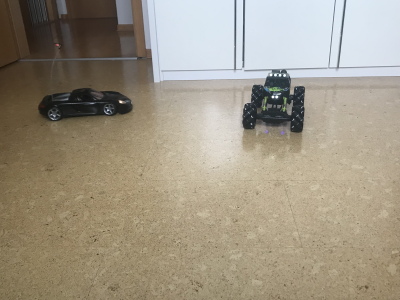remote control car: (240, 66, 307, 134)
